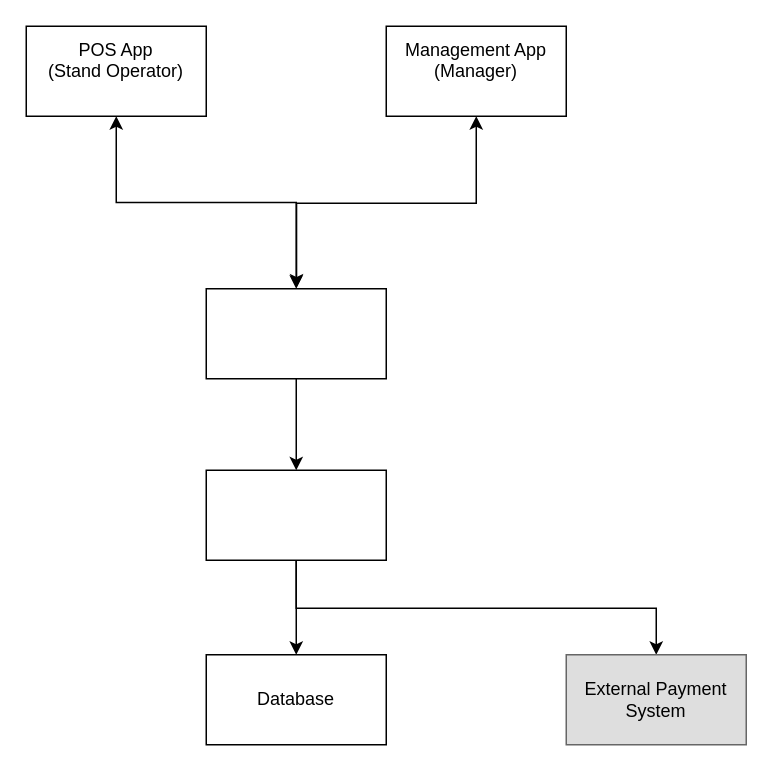
Image size: 773x771. Some labels were removed from this diagram. The shapes that lost their labels are listed below. From the top down, each one's centre as x and y in pixels, then its label:
At point (295, 333): "API Gateway".
At point (295, 514): "Application Backend".
